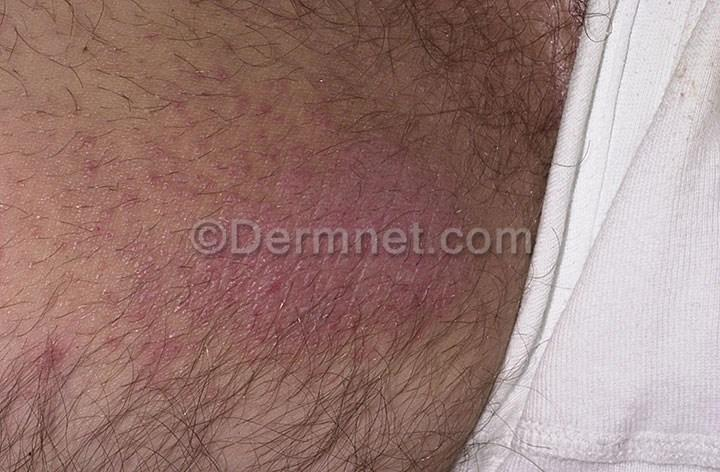Eczema: (55, 40, 268, 224), (179, 247, 474, 370), (268, 130, 490, 224), (4, 316, 109, 383)
